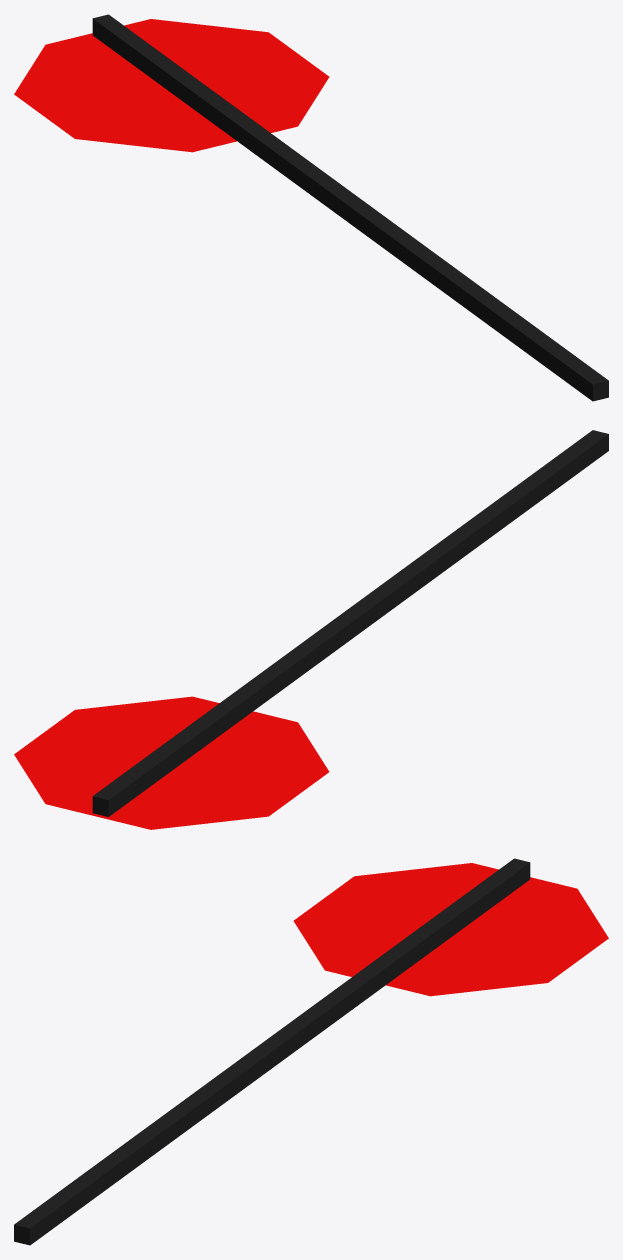
File: stopSign.fbx
The picture shows the model from 3 angles, top to bottom: view 1: azimuth 30°, elevation 25°; view 2: azimuth 150°, elevation 25°; view 3: azimuth 330°, elevation 25°; orthographic projection.
Visible parts, largest first — view 1: Plane; view 2: Plane; view 3: Plane.
Part boxes in pixels (box(x1,y1,x2,y2)): Plane: box(14, 14, 608, 401); Plane: box(14, 430, 608, 829); Plane: box(14, 858, 608, 1245).
Bounding box in the file's own units: 261 × 16.76 × 893.
